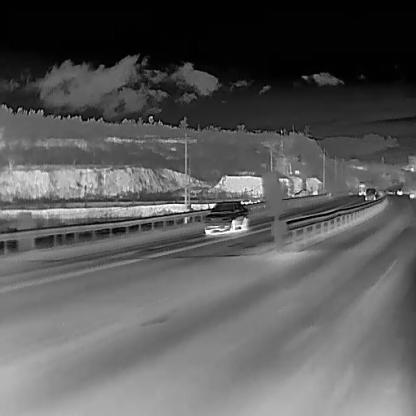car: (202, 200, 249, 236), (363, 187, 376, 201), (293, 188, 310, 198), (408, 188, 416, 198), (396, 187, 402, 195), (386, 189, 392, 194)
truck: (356, 180, 366, 196)
